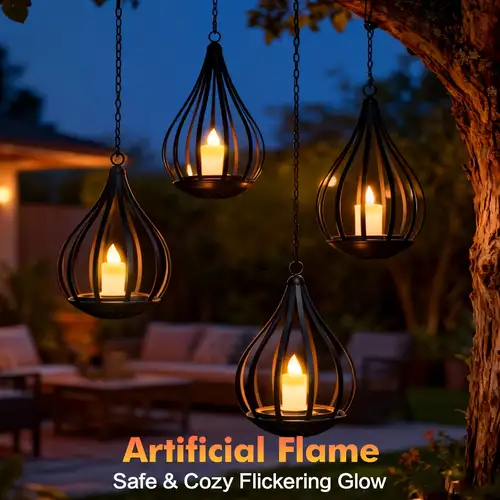Open-Flame-Hazard: (51, 164, 183, 321), (234, 274, 357, 433), (315, 97, 428, 260), (159, 40, 266, 200)
